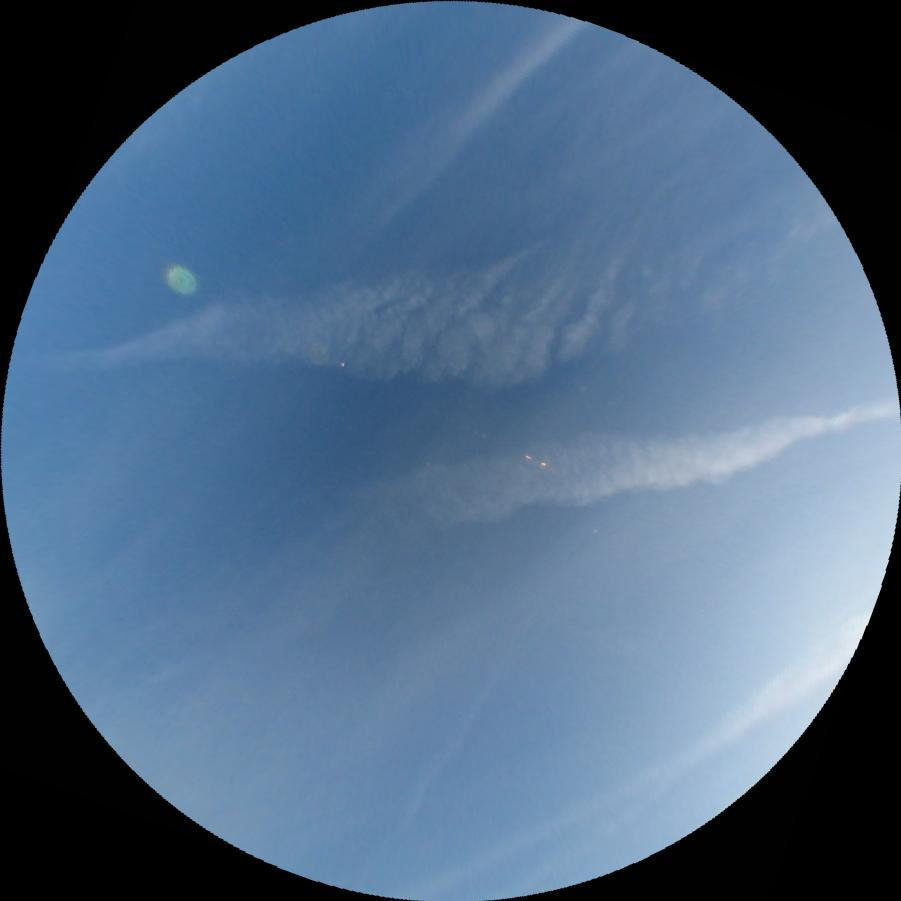contrail veryold: (15, 127, 860, 521), (392, 605, 881, 901), (330, 358, 901, 563)
